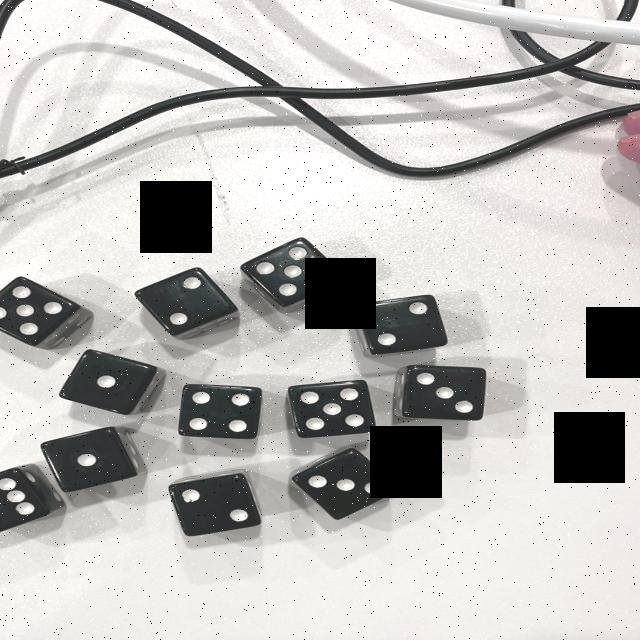DICE1: (50, 424, 137, 486), (65, 361, 152, 406)
DICE2: (361, 294, 448, 354), (144, 269, 224, 332), (170, 472, 254, 532)
DICE3: (295, 450, 392, 510), (397, 368, 495, 414)
DICE4: (176, 384, 262, 438)
DICE5: (251, 240, 338, 300), (286, 381, 378, 437), (0, 274, 78, 336)
DICE6: (0, 467, 42, 532)
